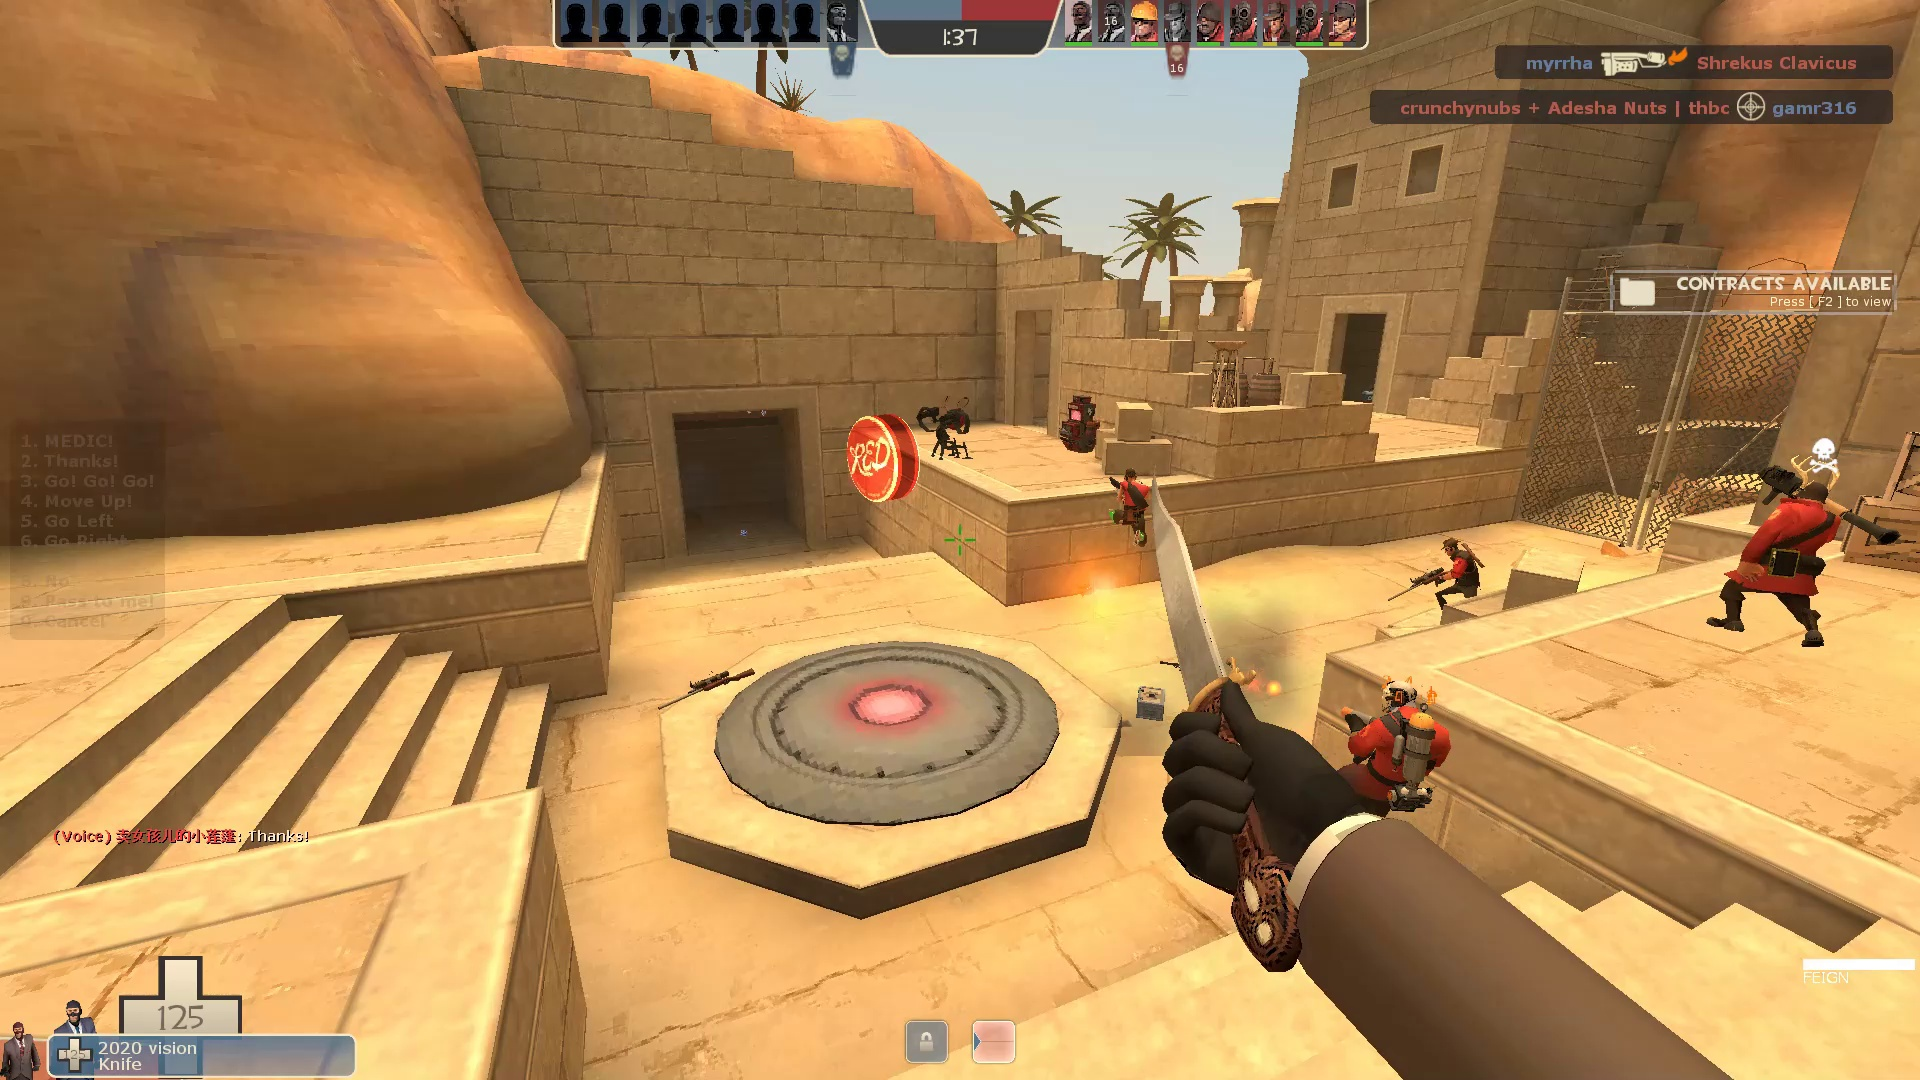red_dispenser: (1058, 392, 1101, 455)
red_pyro: (1295, 670, 1455, 874)
red_scout: (1096, 460, 1163, 555)
red_sentry_3: (913, 394, 978, 464)
red_sniper: (1385, 535, 1485, 641)
red_soldier: (1700, 459, 1859, 655)
